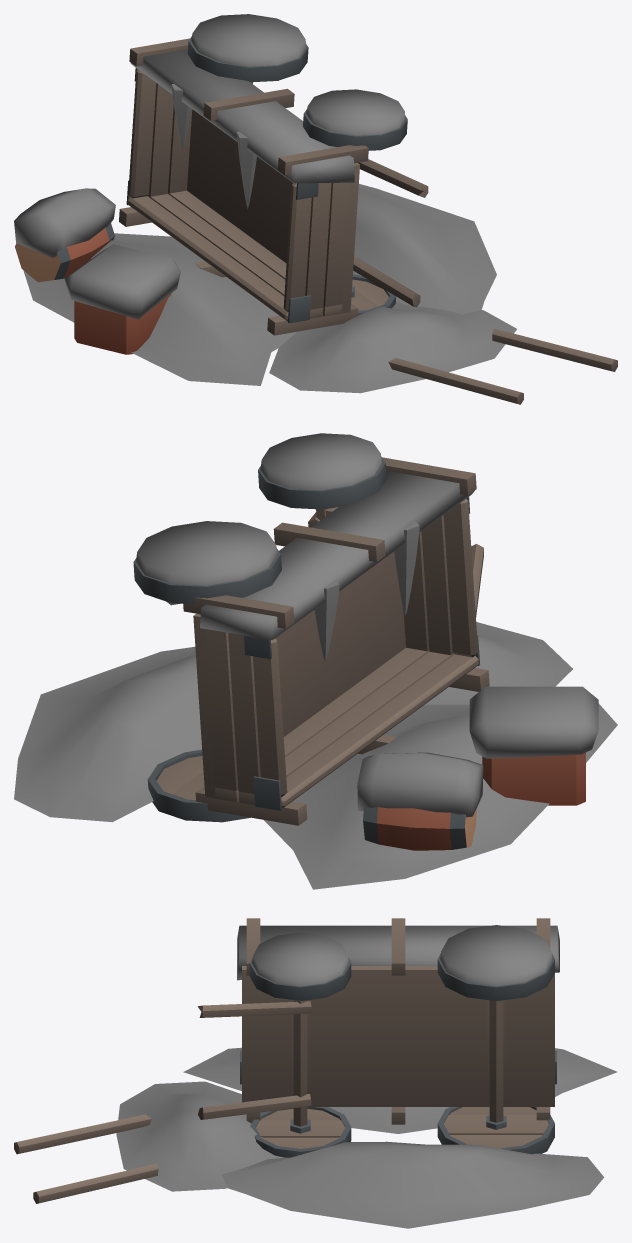
Rendered from cart_frozen_C_blue.fbx.
3 renders of one model, top to bottom at view 1: azimuth 30°, elevation 25°; view 2: azimuth 150°, elevation 25°; view 3: azimuth 270°, elevation 25°, orthographic. The views are drawn at different scales.
Visible parts, largest first — view 1: cart_frozen_C_blue; view 2: cart_frozen_C_blue; view 3: cart_frozen_C_blue.
Boxes of the visible parts, <box> form: cart_frozen_C_blue: <box>14,14,617,404</box>; cart_frozen_C_blue: <box>14,433,617,889</box>; cart_frozen_C_blue: <box>14,918,617,1228</box>.
Bounding box in the file's own units: 2.47 × 1.13 × 3.08.
